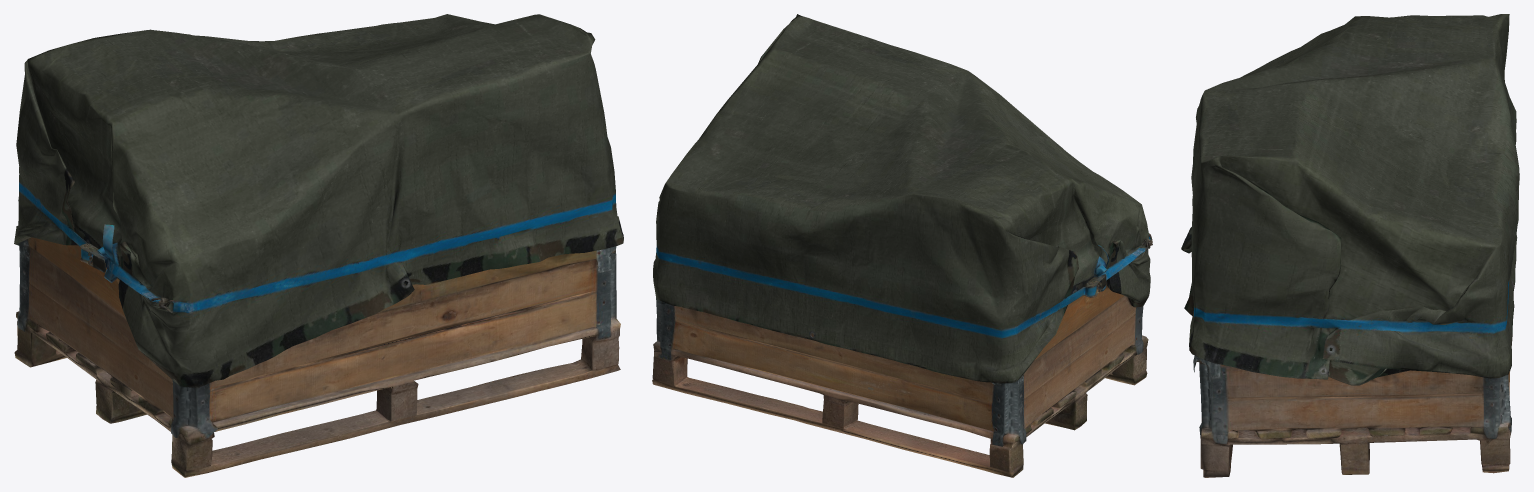
3 renders of one model, left to right at view 1: azimuth 30°, elevation 25°; view 2: azimuth 150°, elevation 25°; view 3: azimuth 270°, elevation 25°, orthographic. The views are drawn at different scales.
Parts seen in each view (by area): view 1: xiwcfassc_LOD0_TIER2_000; view 2: xiwcfassc_LOD0_TIER2_000; view 3: xiwcfassc_LOD0_TIER2_000.
Boxes of the visible parts, x1,y1,x2,y2 form: xiwcfassc_LOD0_TIER2_000: [14, 14, 623, 477]; xiwcfassc_LOD0_TIER2_000: [652, 14, 1152, 477]; xiwcfassc_LOD0_TIER2_000: [1181, 14, 1519, 477].
Bounding box in the file's own units: 1.5 × 1.04 × 1.01.
1 material, 1 textured.
